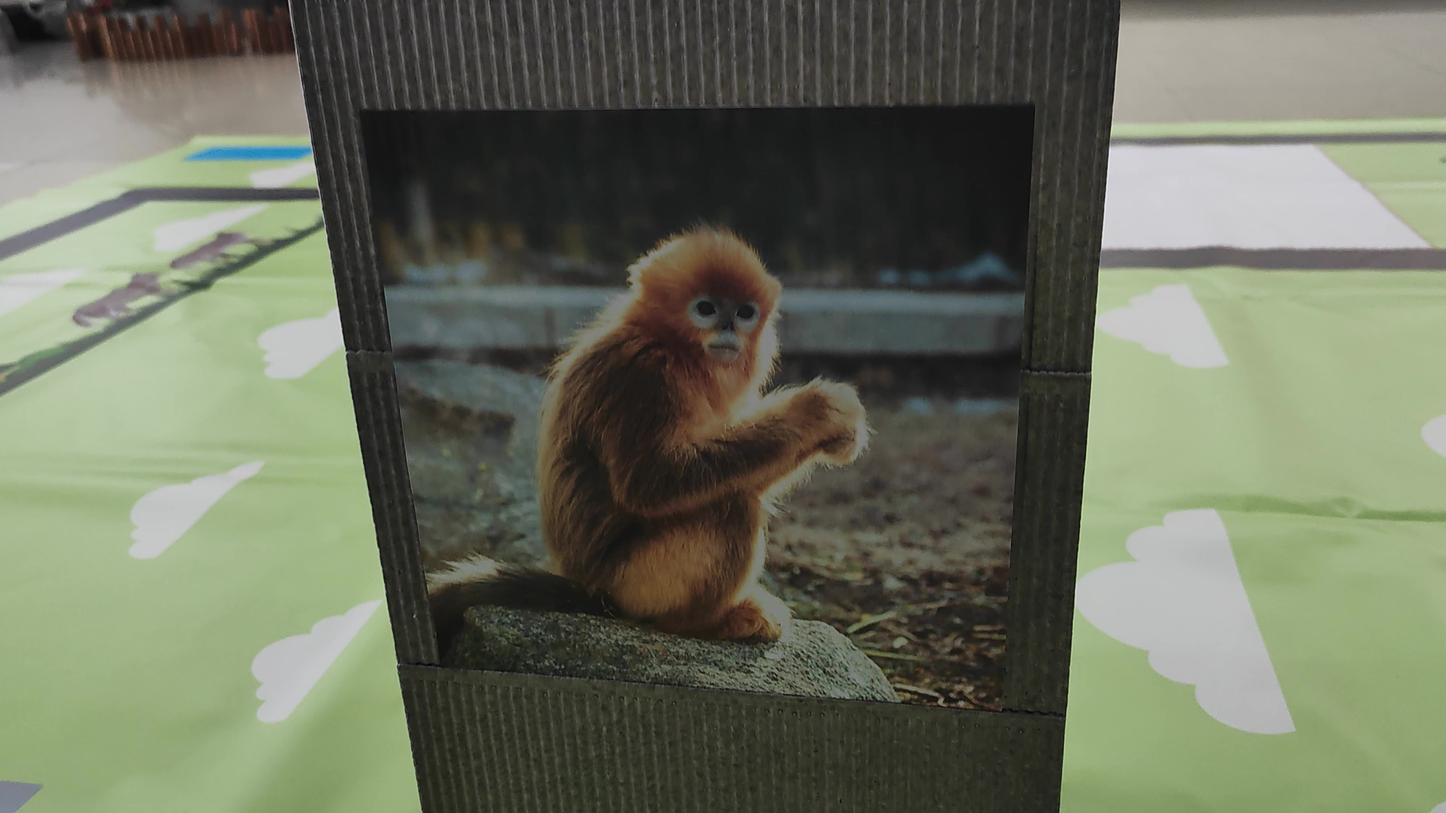monkey: (470, 167, 933, 636)
